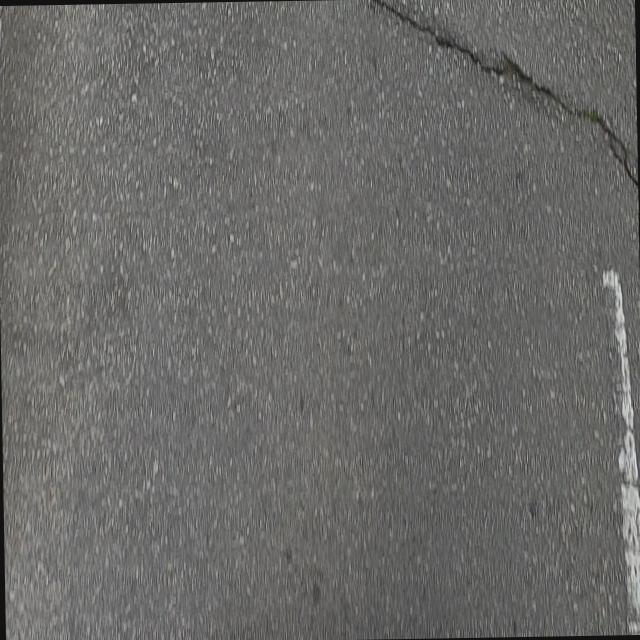Retak-Melintang: (359, 0, 638, 206)
